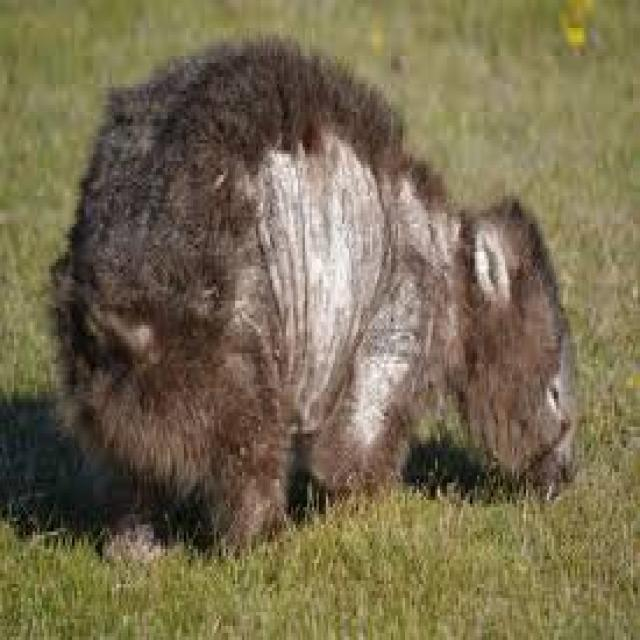Wombat: (48, 36, 580, 553)
